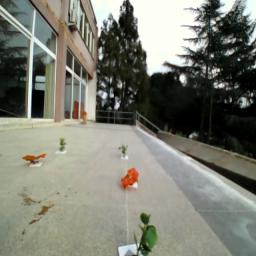herb: (134, 212, 159, 256), (119, 144, 129, 158), (60, 137, 68, 152)
wild: (122, 168, 140, 190), (23, 153, 49, 165)
